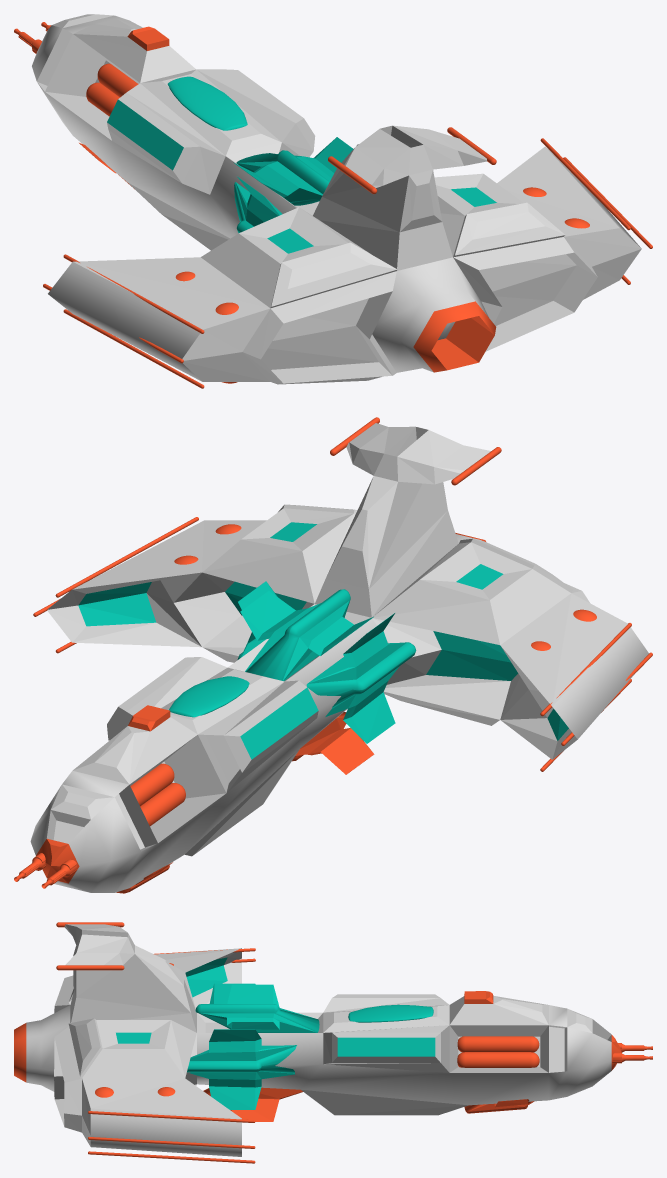
File: landingShip.gltf
The picture shows the model from 3 angles, top to bottom: view 1: azimuth 30°, elevation 25°; view 2: azimuth 150°, elevation 25°; view 3: azimuth 270°, elevation 25°; orthographic projection. The views are drawn at different scales.
Visible parts, largest first — view 1: ChamferCyl2134, ChamferBox001_07 - Default_0, Cham678rCyl012, ChamferBox003, Ch345ferCyl011, Chamfe1233, Ch34yl010, ChamferCy12; view 2: ChamferCyl2134, ChamferBox001_07 - Default_0, ChamferBox003, ChamferBox002, Cham678rCyl012, Ch34yl010, Ch345ferCyl011, ChamferCy12; view 3: ChamferCyl2134, ChamferBox004, ChamferBox001_07 - Default_0, Chamfe34, ChamferCyl0034345, Cham678rCyl012, ChamferBox002, ChamferBox005, Ch12ferCyl006, ChamferCy12, Chamfer12, ChamferBox003 (+1 smaller).
Part boxes in pixels (x1,y1,x2,y2): ChamferCyl2134: (32,14,641,384); ChamferBox001_07 - Default_0: (233,137,353,205); Cham678rCyl012: (167,76,247,130); ChamferBox003: (234,176,282,232); Ch345ferCyl011: (97,63,138,97); Chamfe1233: (63,309,204,388); Ch34yl010: (86,82,119,116); ChamferCy12: (540,138,630,230); ChamferCyl2134: (30,423,648,892); ChamferBox001_07 - Default_0: (240,589,373,681); ChamferBox003: (306,613,416,743); ChamferBox002: (292,712,374,774); Cham678rCyl012: (169,676,249,717); Ch34yl010: (140,783,185,826); Ch345ferCyl011: (130,763,174,806); ChamferCy12: (55,517,198,597); ChamferCyl2134: (14,924,621,1156); ChamferBox004: (187,1029,296,1109); ChamferBox001_07 - Default_0: (195,984,319,1032); Chamfe34: (457,1052,539,1067); ChamferCyl0034345: (457,1036,539,1052); Cham678rCyl012: (348,1004,433,1022); ChamferBox002: (203,1087,302,1121); ChamferBox005: (464,1099,534,1113); Ch12ferCyl006: (88,1151,255,1163); ChamferCy12: (88,1111,255,1122); Chamfer12: (88,1137,255,1148); ChamferBox003: (209,983,255,1003).
Size of the model in its own units: 2.01 by 0.8868 by 2.86.
